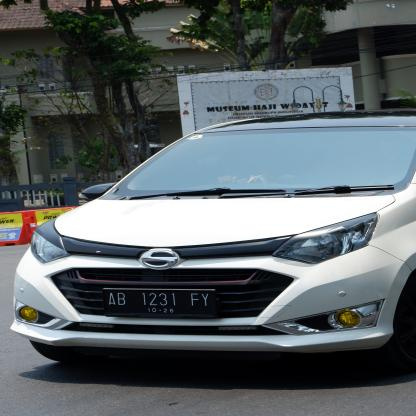Plat-Nomor: (99, 286, 223, 318)
